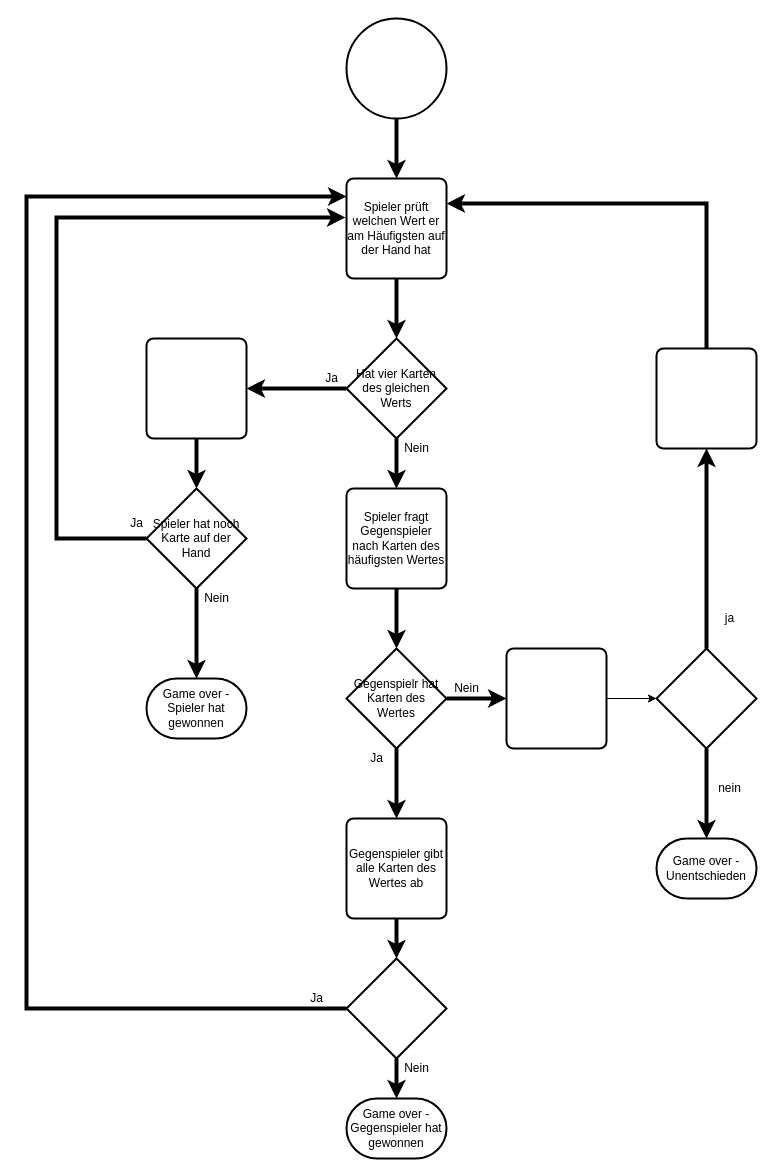
Image size: 774x1176. Some labels were removed from this diagram. Each missing label, with the centre of its shape:
"Go Fish" - Spieler zieht Karte vom Stapel: [556,698]
Gegenspieler hat noch Karten auf der Hand: [396,1008]
Noch Karten auf Stapel: [706,698]
Spieler legt 'Quartett' vor sich ab: [196,388]
Spieler wechsel: [706,398]
